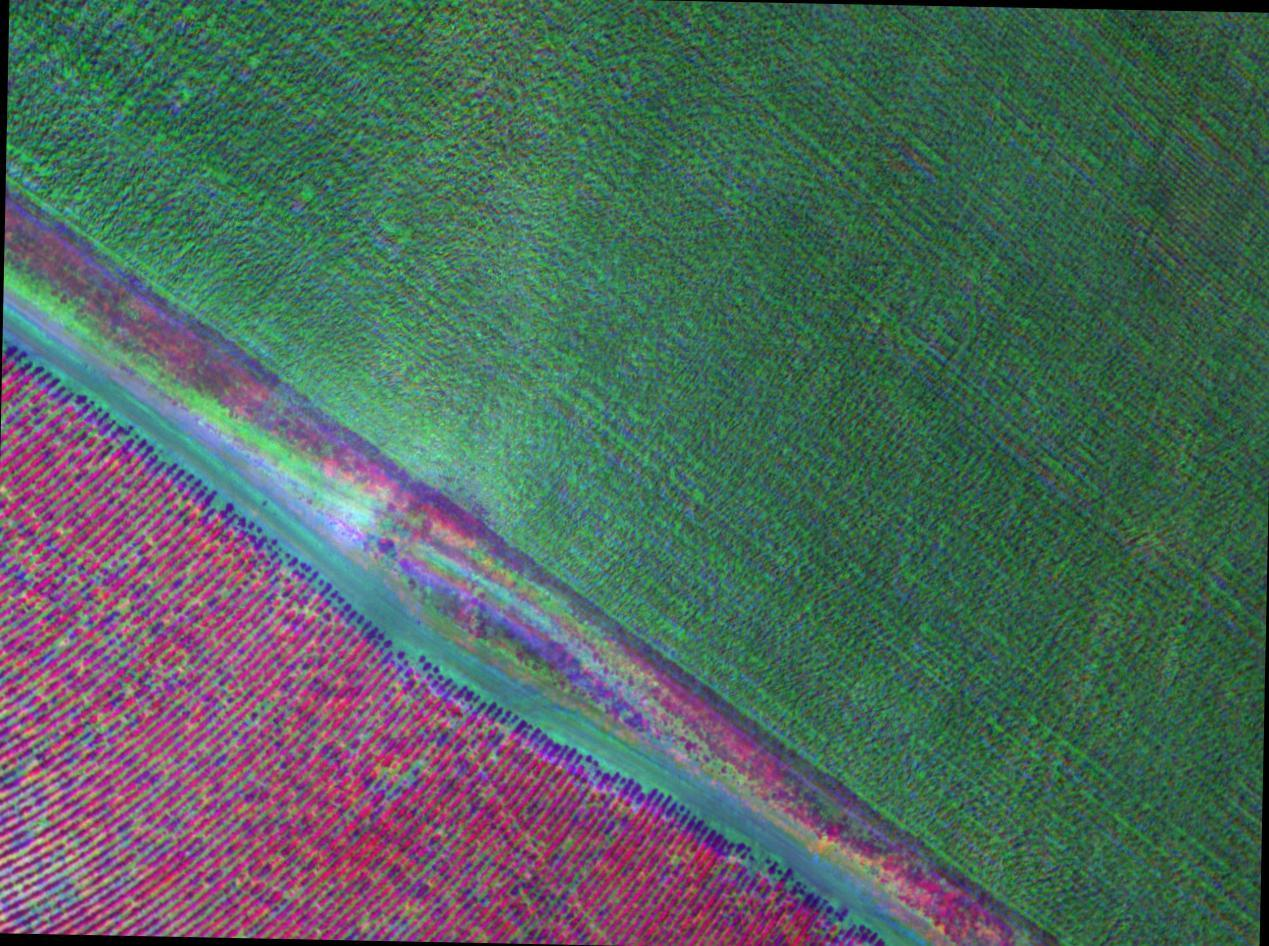dc: (358, 748, 425, 810), (101, 590, 162, 657), (212, 684, 281, 732), (21, 804, 79, 861), (0, 462, 48, 526), (217, 574, 283, 614)
